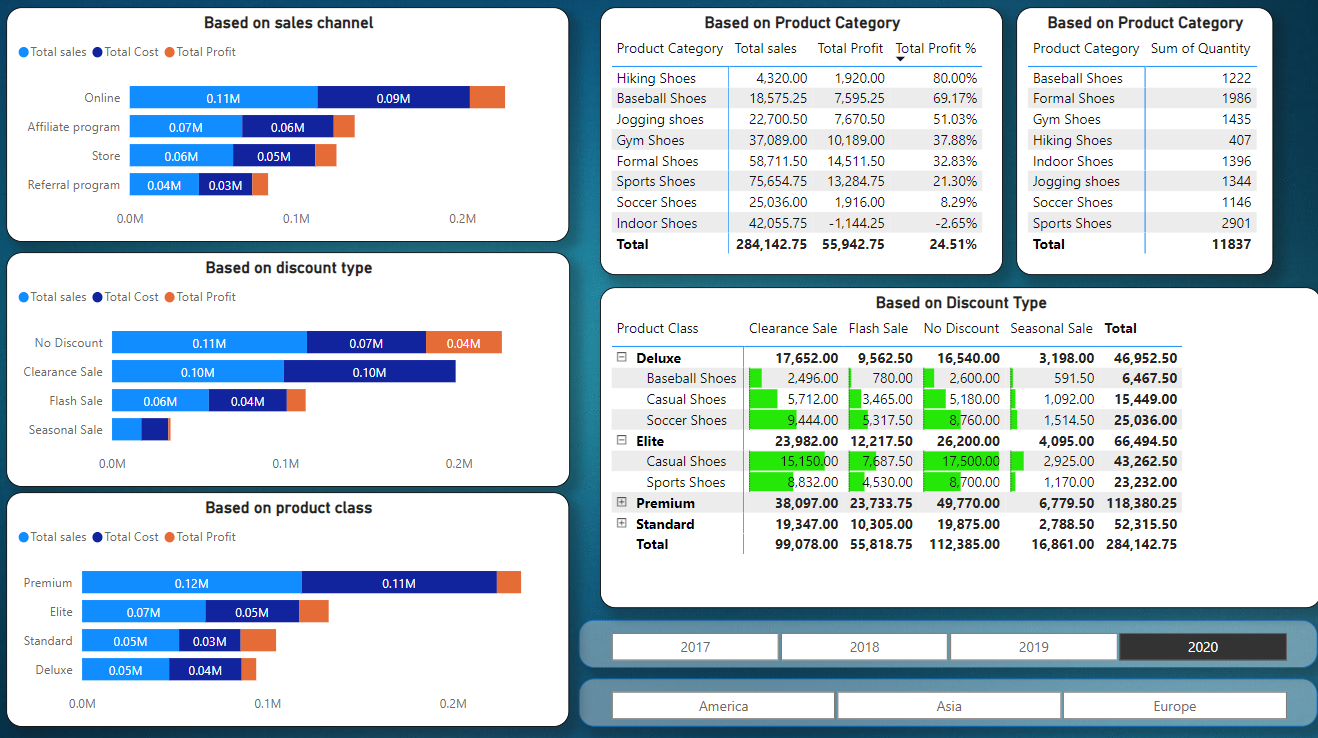

The dashboard page shown, as its layout file describes it:
{"tool":"powerbi","page":{"name":"Slide 3(Final) ","canvas":[1280,720],"ordinal":2},"visuals":[{"type":"barChart","title":"Based on sales channel","fields":{"Category":["Sales Data.Sales Channel"],"Y":["Measures Table.Total sales","Measures Table.Total Cost","Measures Table.Total Profit"]},"box":[10.7,10.7,543.5,226.5],"z":0},{"type":"slicer","title":"Years","fields":{"Values":["Calender Table.Year"]},"box":[563.5,602.2,712.7,46.6],"z":1000},{"type":"slicer","title":"Years","fields":{"Values":["Sales Data.Continents"]},"box":[563.5,658.1,712.7,46.6],"z":2000},{"type":"barChart","title":"Based on discount type","fields":{"Y":["Measures Table.Total sales","Measures Table.Total Cost","Measures Table.Total Profit"],"Category":["Sales Data.Discount Type"]},"box":[10.9,247.2,543.9,226.7],"z":3000},{"type":"barChart","title":"Based on product class","fields":{"Y":["Measures Table.Total sales","Measures Table.Total Cost","Measures Table.Total Profit"],"Category":["Sales Data.Product Class"]},"box":[10.7,478.3,543.5,226.5],"z":4000},{"type":"pivotTable","title":"Based on Product Category","fields":{"Rows":["Sales Data.Product Category"],"Values":["Measures Table.Total sales","Measures Table.Total Profit","Measures Table.Total Profit %"]},"box":[583.5,10.7,389,258.5],"z":5000},{"type":"pivotTable","title":"Based on Product Category","fields":{"Rows":["Sales Data.Product Category"],"Values":["Sum(Sales Data.Quantity)"]},"box":[985.8,10.7,247.8,258.5],"z":6000},{"type":"pivotTable","title":"Based on Discount Type","fields":{"Rows":["Sales Data.Product Class","Products Details.Products Category"],"Columns":["Discount Details.Discount Type"],"Values":["Measures Table.Total sales"]},"box":[583.7,281,695.9,309.9],"z":7000}]}

Visuals, with their boxes in screenshot pixels (x1, y1, x2, y2), scaled from the page's 1280x720 canvas onto the 1318x738 screenshot:
"Based on sales channel" barChart: [11,11,571,243]
"Years" slicer: [580,617,1314,665]
"Years" slicer: [580,675,1314,722]
"Based on discount type" barChart: [11,253,571,486]
"Based on product class" barChart: [11,490,571,722]
"Based on Product Category" pivotTable: [601,11,1001,276]
"Based on Product Category" pivotTable: [1015,11,1270,276]
"Based on Discount Type" pivotTable: [601,288,1317,606]
